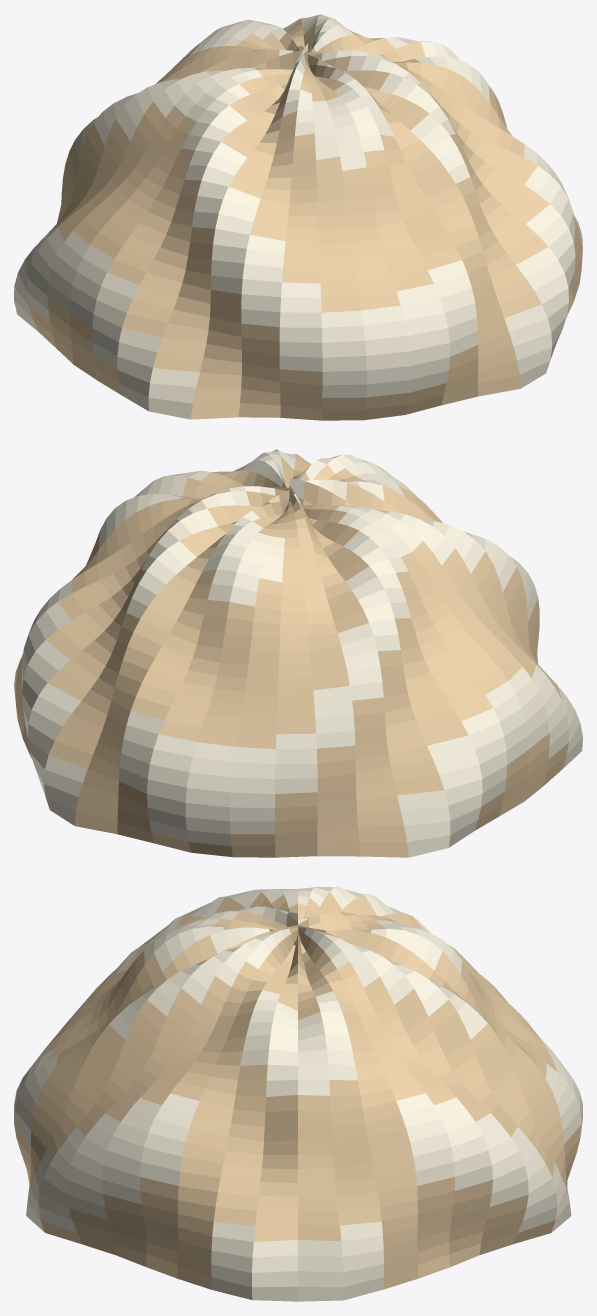
Rendered from BrainCoral_A.fbx.
The picture shows the model from 3 angles, top to bottom: view 1: azimuth 30°, elevation 25°; view 2: azimuth 150°, elevation 25°; view 3: azimuth 270°, elevation 25°; orthographic projection.
Parts seen in each view (by area): view 1: BrainCoral_A_Tan, BrainCoral_A_Cream; view 2: BrainCoral_A_Tan, BrainCoral_A_Cream; view 3: BrainCoral_A_Tan, BrainCoral_A_Cream.
Part boxes in pixels (x1,y1,x2,y2): BrainCoral_A_Tan: (29,20,582,420); BrainCoral_A_Cream: (14,14,582,419); BrainCoral_A_Tan: (15,454,568,857); BrainCoral_A_Cream: (14,449,582,857); BrainCoral_A_Tan: (14,892,581,1289); BrainCoral_A_Cream: (14,886,582,1301).
Bounding box in the file's own units: 410 × 212 × 412.
